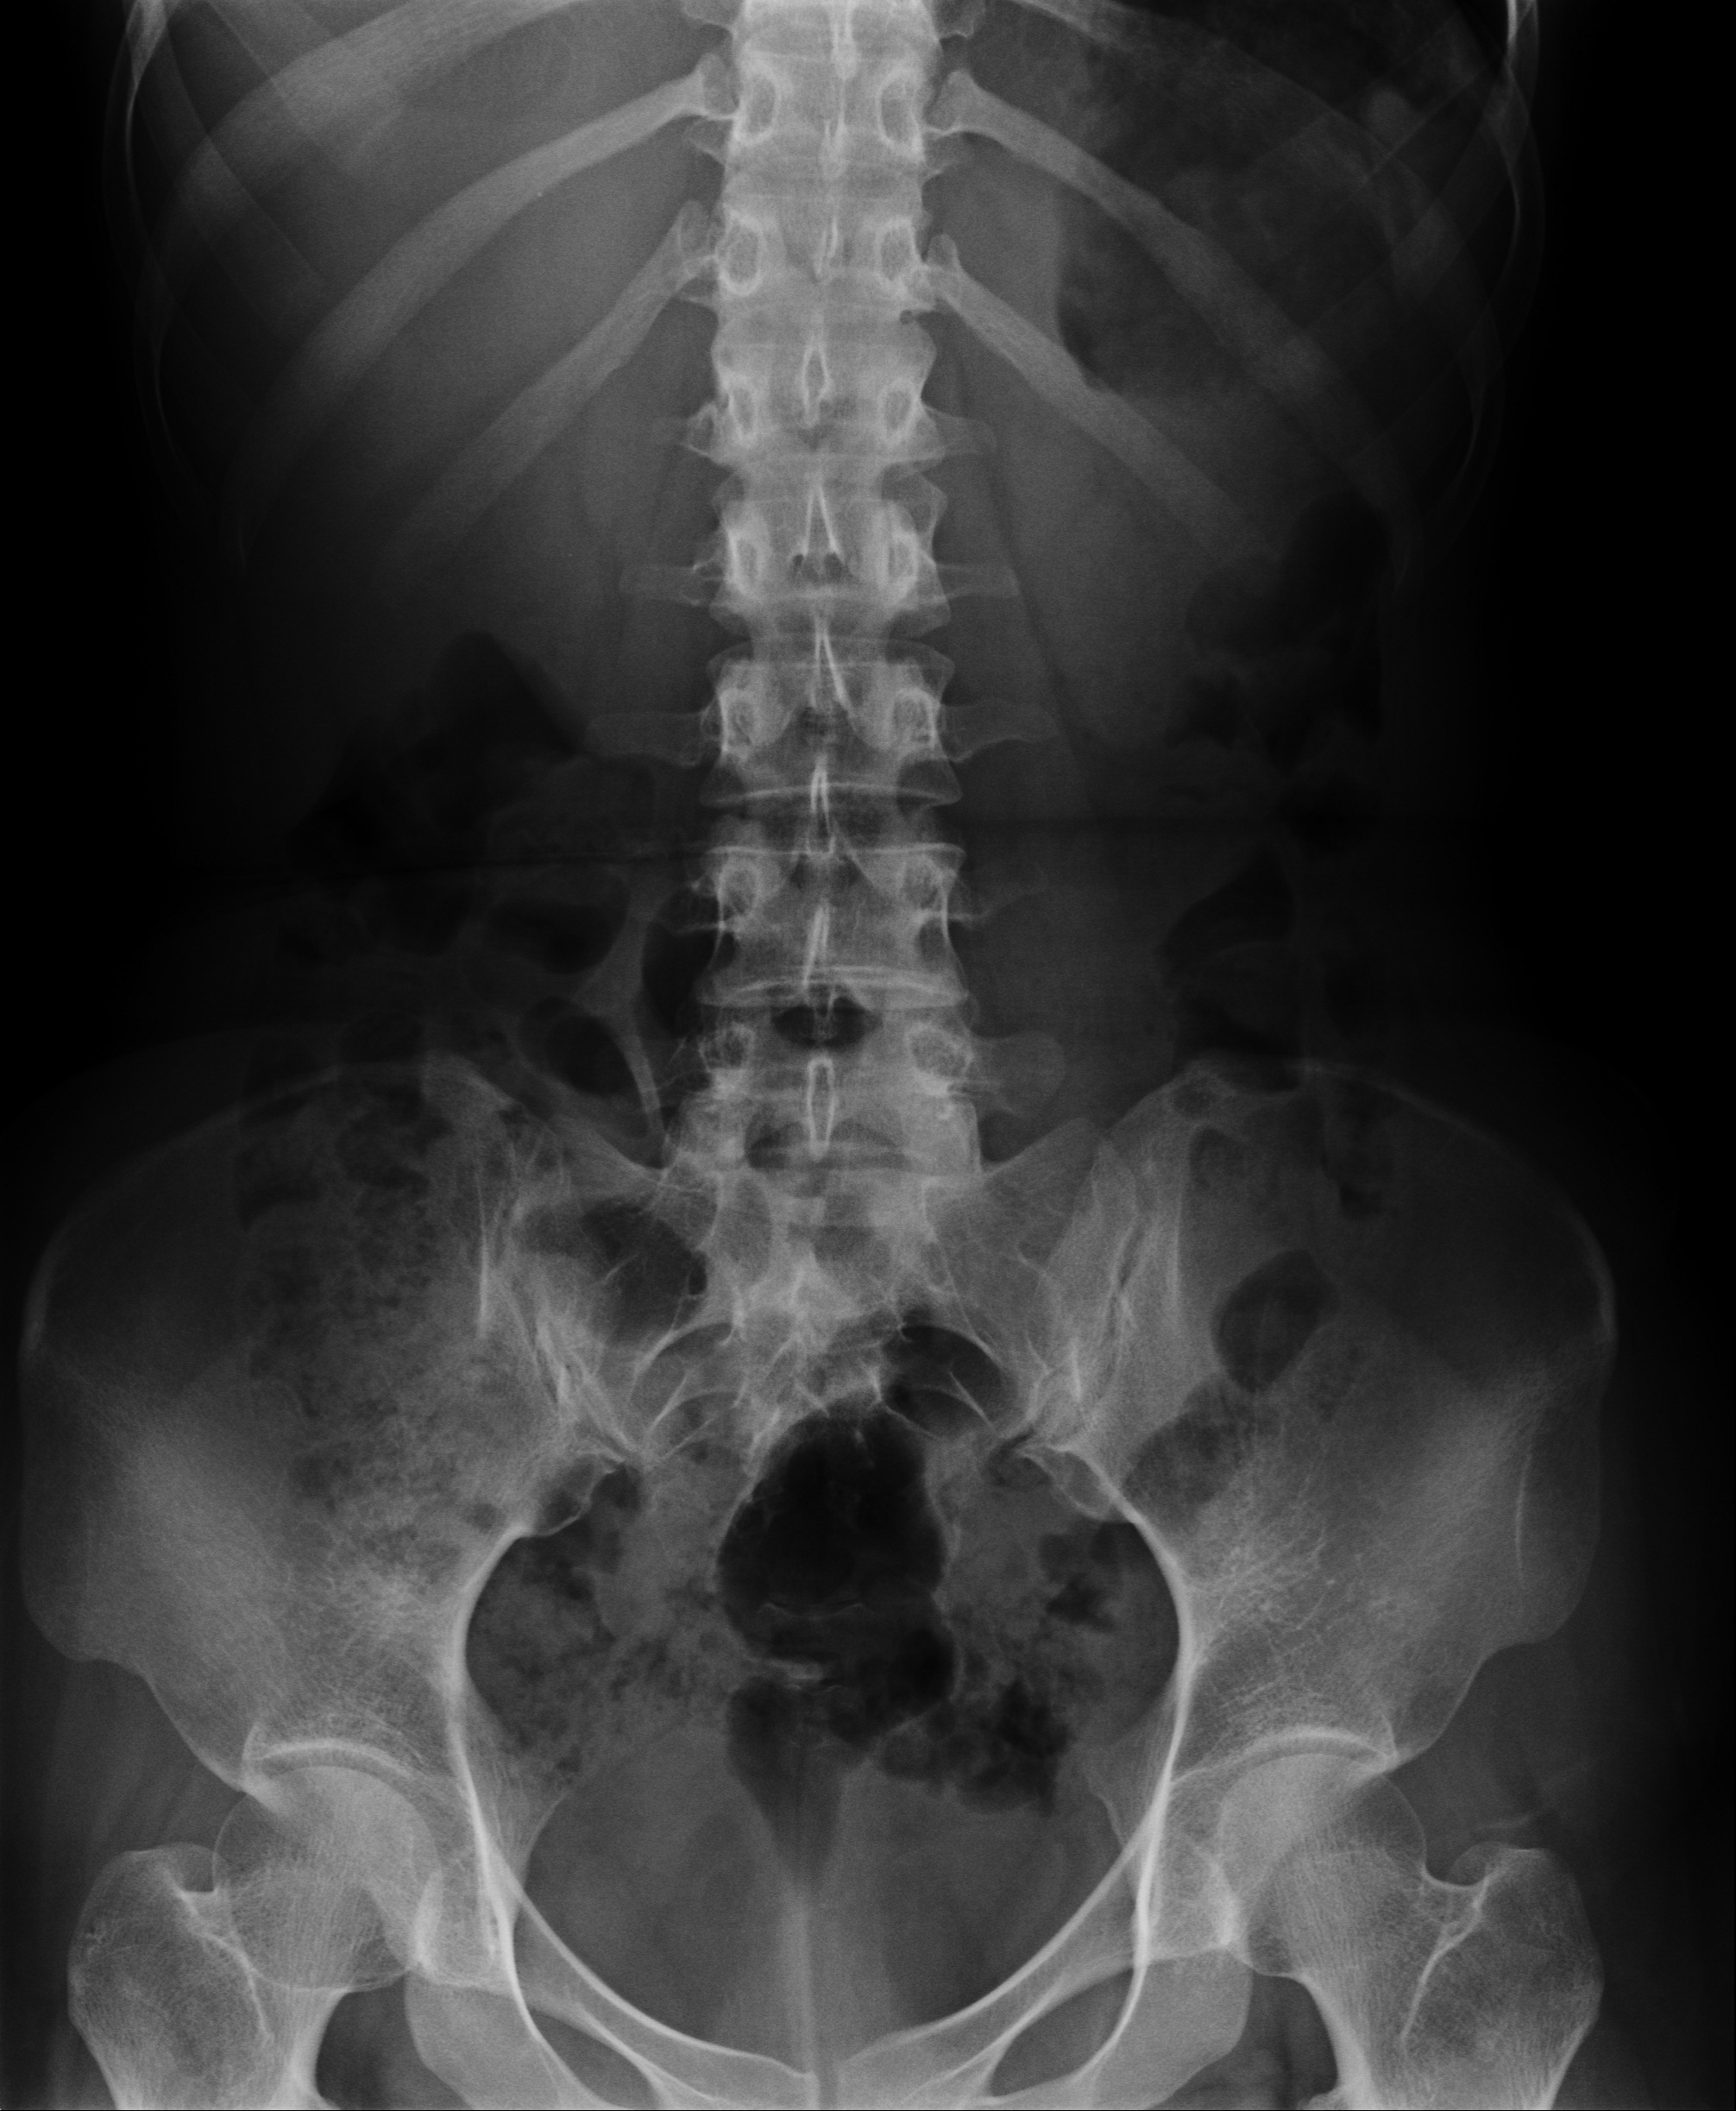lumbar scoliosis: (686, 11, 996, 1297)
